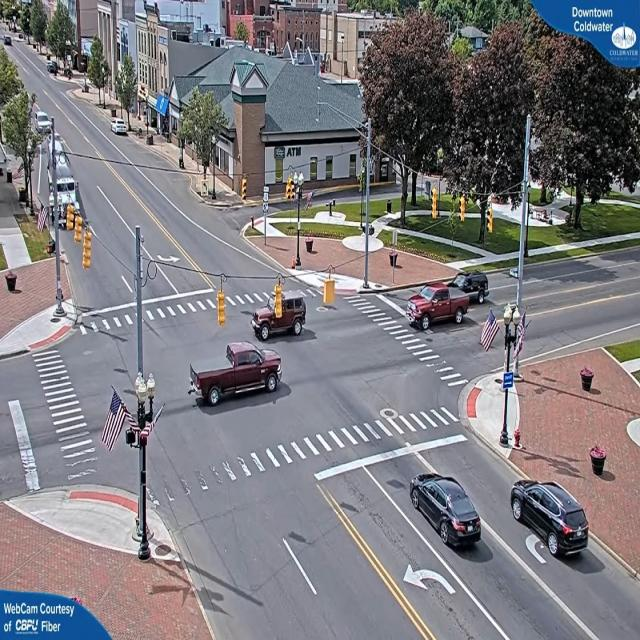car: (510, 480, 590, 557), (190, 342, 278, 411), (410, 477, 482, 552), (251, 293, 310, 342), (399, 283, 467, 325), (453, 273, 489, 301), (112, 121, 130, 138), (510, 267, 521, 280)
truck: (48, 143, 81, 228)
